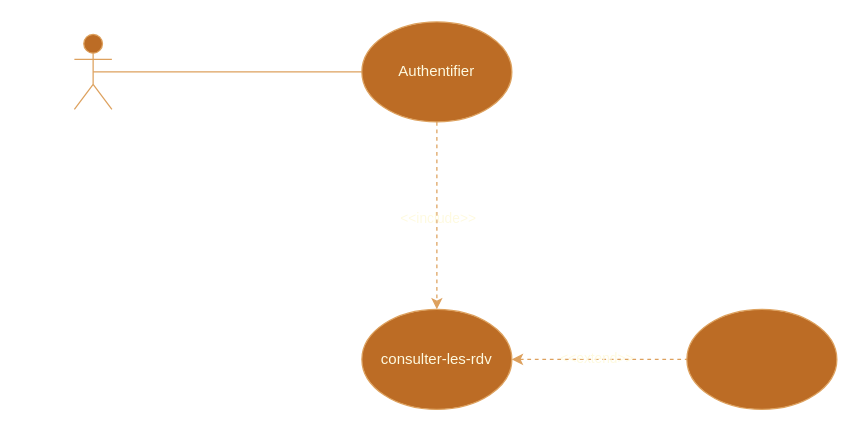
The diagram is 859 pixels wide and 431 high, and some of its shapes have lost their labels. The centre of each missing label's shape, as x and y in pixels:
"Agent-centre-examen" belongs at (x=92, y=71).
"confirmer-les-retraits-effectuer" belongs at (x=761, y=358).
